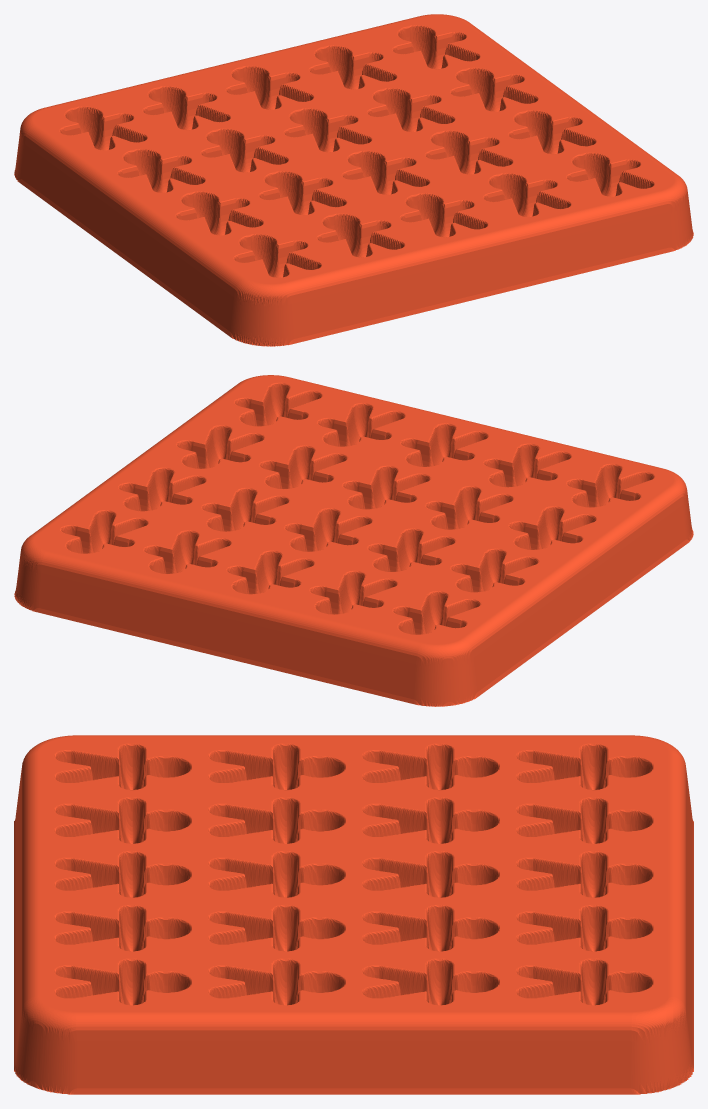
Rendered from mold.glb.
3 views of the same model, one above another, from view 1: azimuth 30°, elevation 25°; view 2: azimuth 150°, elevation 25°; view 3: azimuth 270°, elevation 25° (orthographic). The views are drawn at different scales.
Parts seen in each view (by area): view 1: geometry_0; view 2: geometry_0; view 3: geometry_0.
Part boxes in pixels (x1,y1,x2,y2): geometry_0: (14, 14, 693, 346); geometry_0: (14, 375, 693, 706); geometry_0: (14, 735, 693, 1094).
Bounding box in the file's own units: 0.1002 × 0.0114 × 0.0972.
